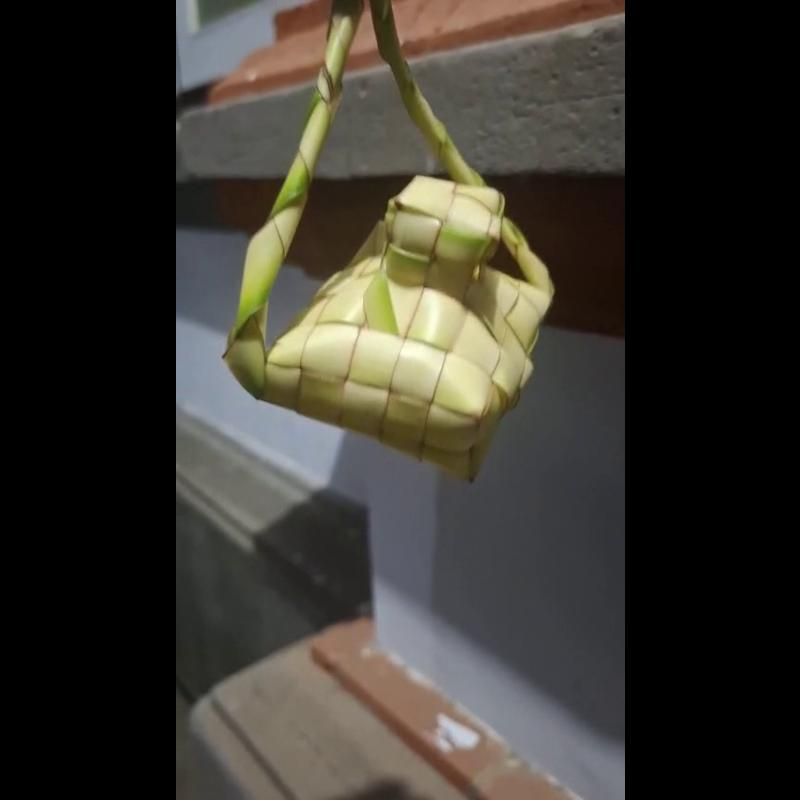Tipat Gong: (222, 0, 562, 490)
